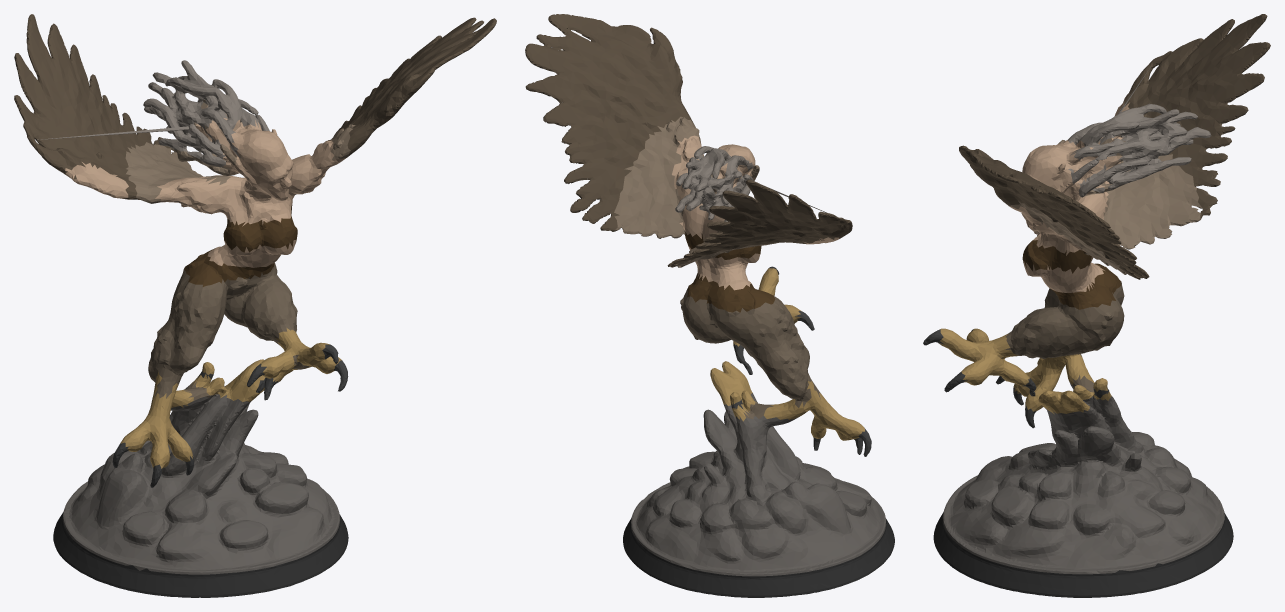
Rendered from harpia.glb.
3 renders of one model, left to right at view 1: azimuth 30°, elevation 25°; view 2: azimuth 150°, elevation 25°; view 3: azimuth 270°, elevation 25°, orthographic. The views are drawn at different scales.
Parts seen in each view (by area): view 1: tmpkqakoa37.ply; view 2: tmpkqakoa37.ply; view 3: tmpkqakoa37.ply.
Part boxes in pixels (<box>): tmpkqakoa37.ply: <box>14,14,496,597</box>; tmpkqakoa37.ply: <box>525,14,894,597</box>; tmpkqakoa37.ply: <box>923,14,1270,597</box>.
Bounding box in the file's own units: 1.71 × 1.96 × 1.27.
